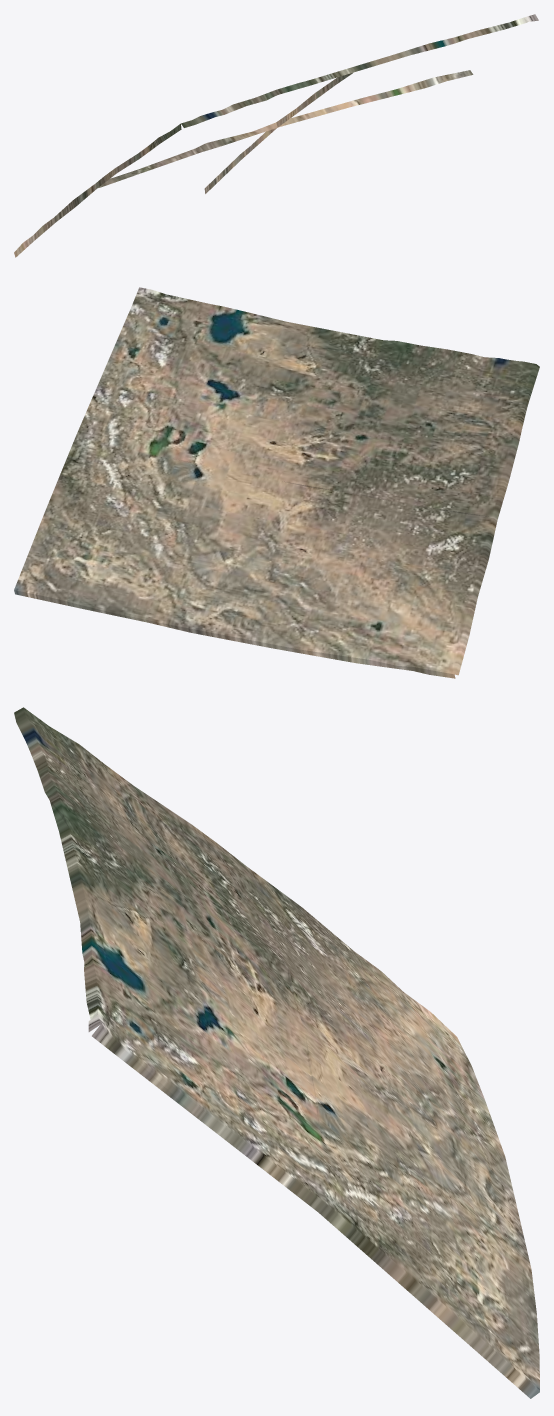
3 views of the same model, one above another, from view 1: azimuth 30°, elevation 25°; view 2: azimuth 150°, elevation 25°; view 3: azimuth 270°, elevation 25° (orthographic). The views are drawn at different scales.
Size of the model in its own units: 891449 by 437047 by 552440.
1 material, 1 textured.
